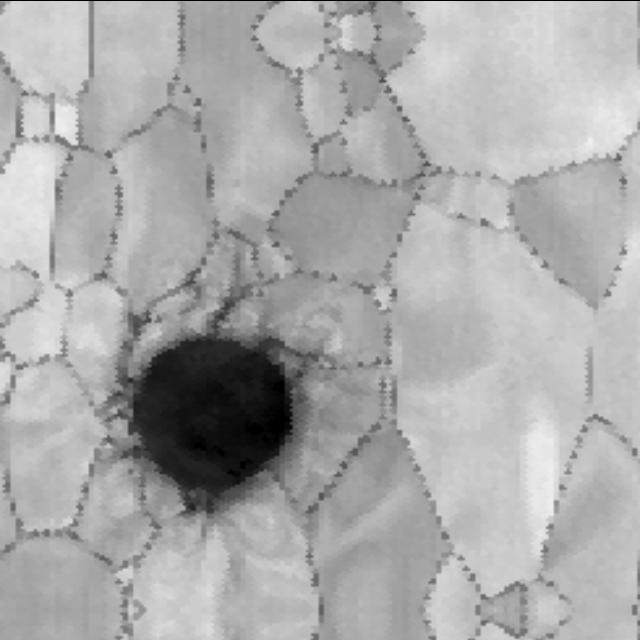good_void: (99, 279, 327, 521), (381, 277, 405, 304)
